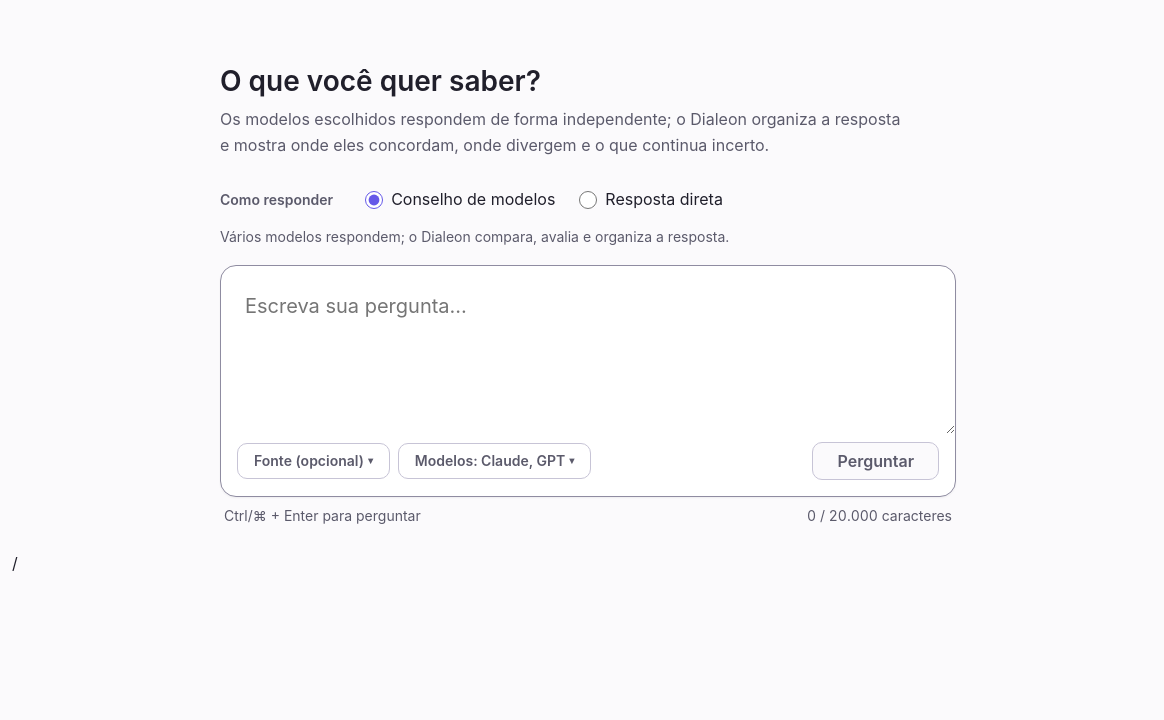
Scenario: Home -- envio de uma resposta direta › desfecho incerto de uma direta: mesmo aviso do Conselho, sem reenvio de um clique
The width and height of the screenshot is (1164, 720).
Expected: the button "Modelos: Claude, GPT ▾" is shown, top-left (398, 443), bottom-right (591, 479)
Step 1. Click the radio button labelled "Resposta direta" → (588, 200), box top-left (579, 191), bottom-right (597, 209)
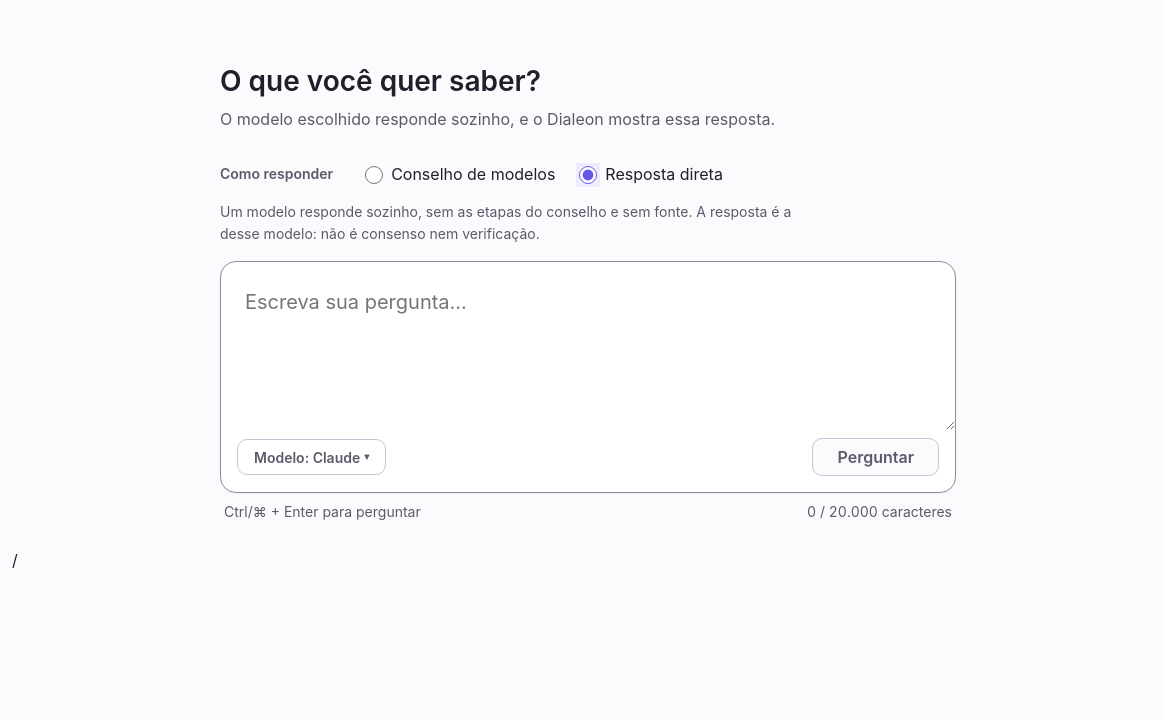
Step 2. Type "q" into the text box named "faça uma pergunta" → (588, 346), box top-left (221, 262), bottom-right (955, 430)
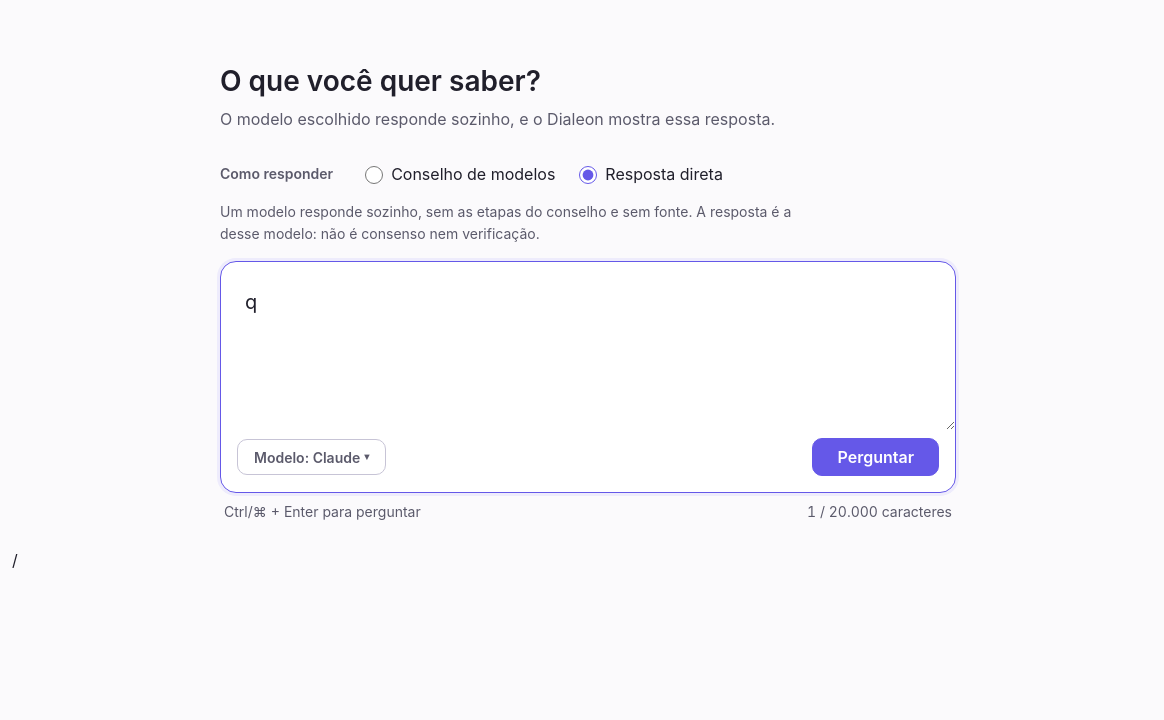
Step 3. Click the button "Perguntar" → (876, 457), box top-left (812, 438), bottom-right (939, 476)
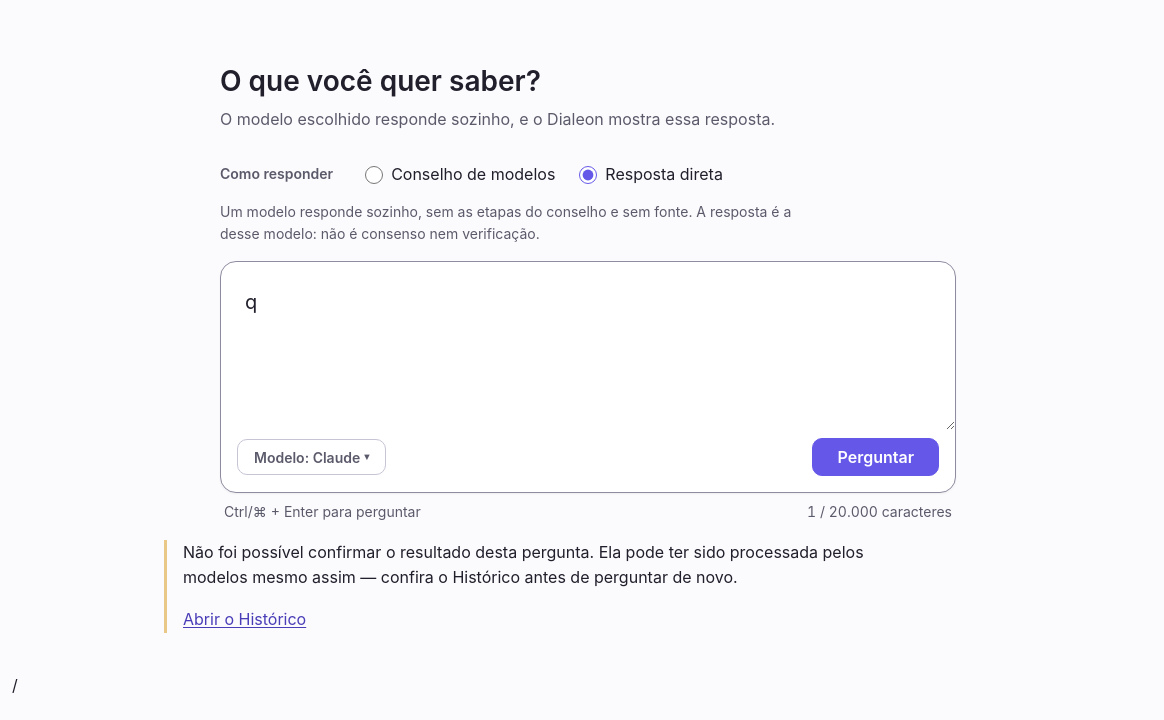
Expected: the button "Fonte (opcional) ▾" is not shown
Result: the radio button labelled "Resposta direta" is checked at top-left (579, 166), bottom-right (597, 184)
Result: the message shows "Não foi possível confirmar o resultado" at top-left (183, 542), bottom-right (864, 587)
